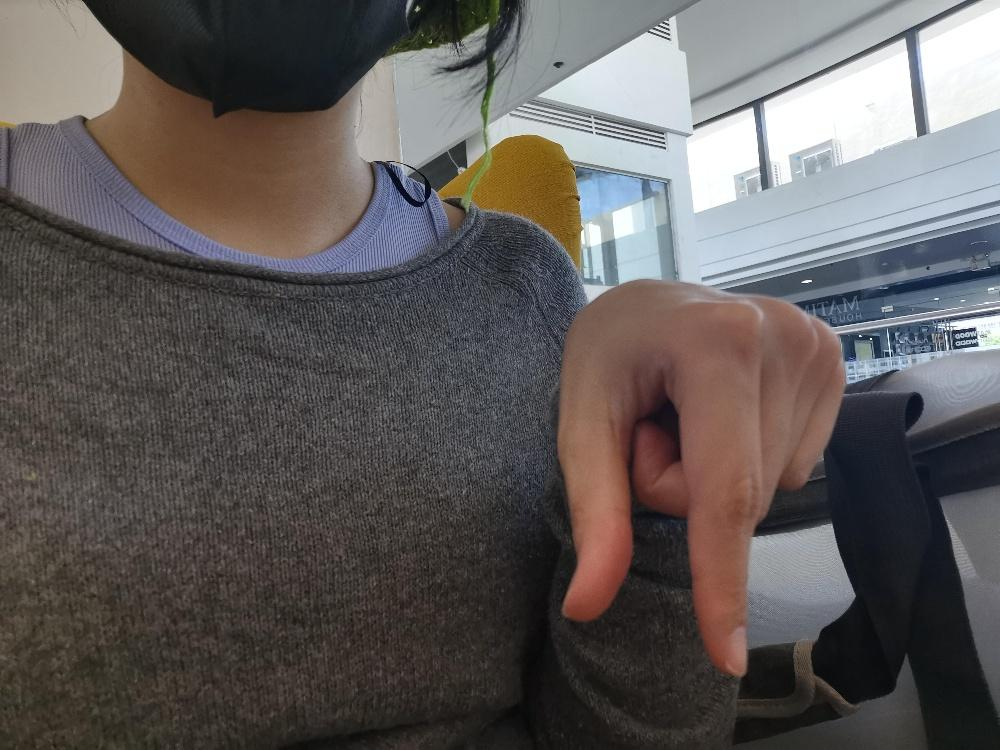q: (552, 274, 848, 679)
